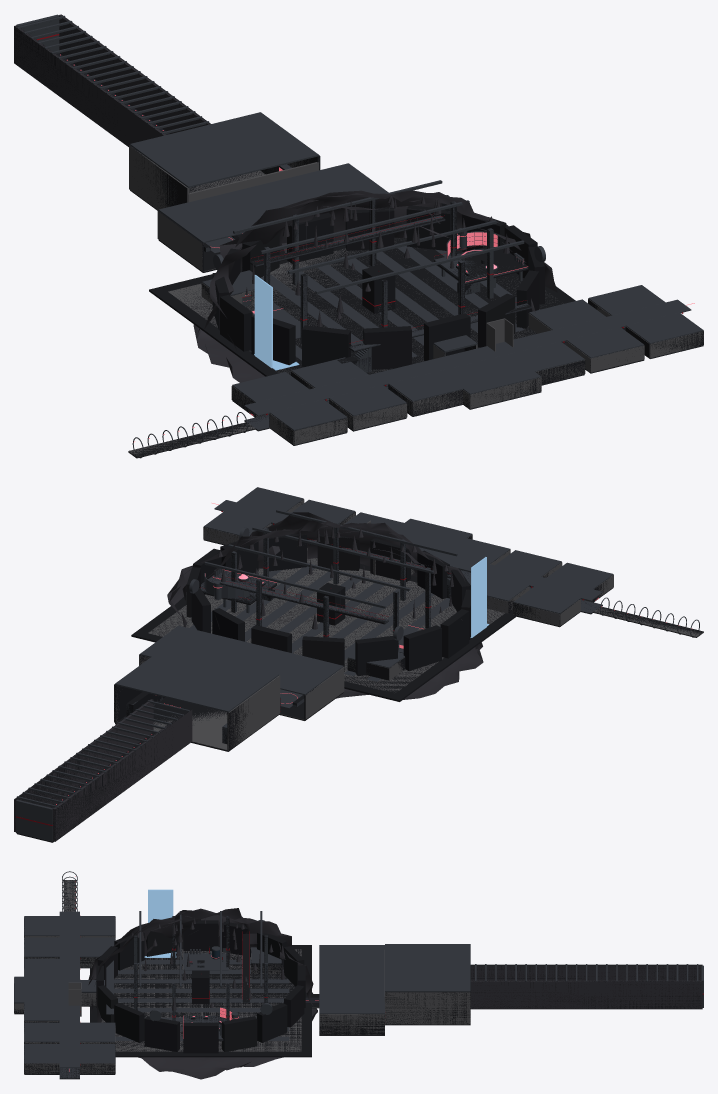
The model's file is red_citadel.glb.
3 views of the same model, one above another, from view 1: azimuth 30°, elevation 25°; view 2: azimuth 150°, elevation 25°; view 3: azimuth 270°, elevation 25° (orthographic). The views are drawn at different scales.
Visible parts, largest first — view 1: hub_floor_COL, a1h_ceiling, hub_rock, hng_ceiling, cor_ceiling, rw_wall-1, rw_wall1, hub_floor, Training_ceiling, a1h_wall-1, hub_wall11_COL, hub_wall10_COL (+45 smaller); view 2: hub_floor, hub_floor_COL, a1h_ceiling, hub_rock, rw_wall-1, hng_ceiling, rw_wall1, cor_ceiling, rw_wall-1_COL, a1h_wall-1, hub_wall7_COL, Training_ceiling (+40 smaller); view 3: hub_floor_COL, rw_wall1, hub_rock, hng_ceiling, a1h_ceiling, hub_floor, rw_wall-1, cor_ceiling, a1h_wall1, a1h_wall1_COL, rw_wall1_COL, hng_wall1 (+41 smaller).
Boxes of the visible parts, box(x1,y1,x2,y2) form: hub_floor_COL: box(149, 237, 575, 376); a1h_ceiling: box(130, 112, 318, 187); hub_rock: box(193, 190, 557, 385); hng_ceiling: box(158, 163, 388, 243); cor_ceiling: box(244, 299, 691, 415); rw_wall-1: box(14, 25, 165, 146); rw_wall1: box(59, 14, 210, 133); hub_floor: box(168, 238, 563, 373); Training_ceiling: box(440, 354, 541, 394); a1h_wall-1: box(129, 145, 189, 210); hub_wall11_COL: box(363, 326, 411, 369); hub_wall10_COL: box(302, 325, 350, 366); hub_floor: box(148, 558, 504, 692); hub_floor_COL: box(131, 557, 515, 701); a1h_ceiling: box(115, 646, 278, 712); hub_rock: box(167, 512, 483, 699); rw_wall-1: box(53, 709, 192, 841); hng_ceiling: box(139, 625, 343, 695); rw_wall1: box(14, 699, 153, 831); cor_ceiling: box(214, 500, 602, 600); rw_wall-1_COL: box(52, 708, 191, 841); a1h_wall-1: box(227, 675, 280, 750); hub_wall7_COL: box(403, 625, 441, 670); Training_ceiling: box(395, 518, 472, 550); hub_floor_COL: box(90, 945, 311, 1057); rw_wall1: box(471, 980, 702, 1008); hub_rock: box(88, 908, 317, 1079); hng_ceiling: box(319, 945, 384, 1013); a1h_ceiling: box(385, 944, 470, 991); hub_floor: box(101, 949, 301, 1051); rw_wall-1: box(471, 965, 701, 980); cor_ceiling: box(59, 911, 79, 1067); a1h_wall1: box(385, 992, 470, 1024); a1h_wall1_COL: box(385, 992, 470, 1024); rw_wall1_COL: box(470, 981, 702, 1008); hng_wall1: box(319, 1014, 384, 1034).
Size of the model in its own units: 190 by 41.83 by 274.
20 materials, 20 textured.
